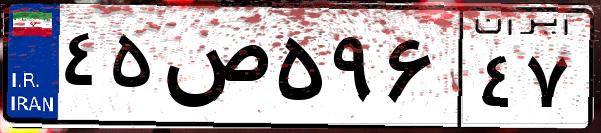4: (57, 26, 110, 100), (475, 38, 525, 113)
5: (270, 28, 330, 110), (110, 28, 158, 98)
6: (385, 28, 445, 110)
7: (525, 38, 570, 115)
9: (330, 28, 385, 110)
ص: (158, 20, 270, 120)
